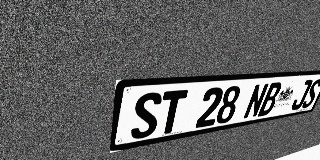2: (195, 87, 225, 128)
8: (214, 85, 243, 125)
B: (257, 82, 283, 117)
J: (289, 80, 314, 111)
N: (242, 83, 270, 120)
S: (130, 92, 163, 140), (300, 79, 320, 109)
T: (156, 90, 188, 135)
